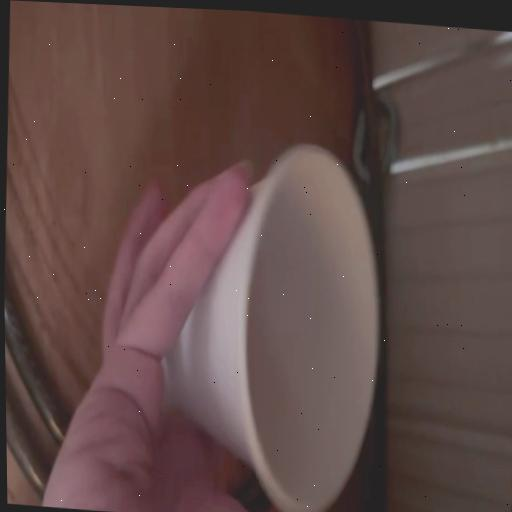Ly_giay: (161, 145, 378, 512)
